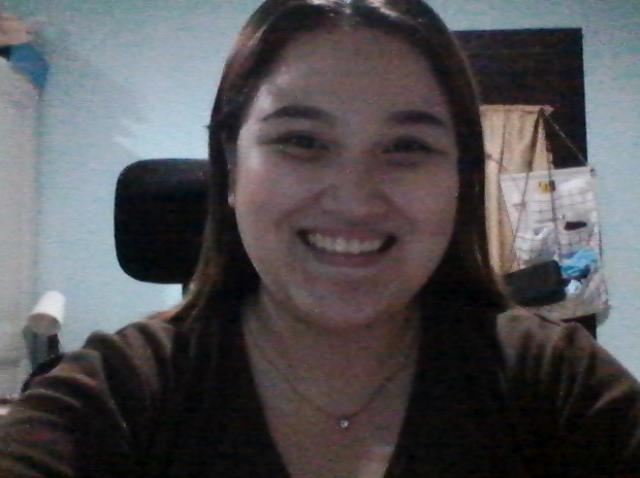senang: (225, 32, 466, 326)
